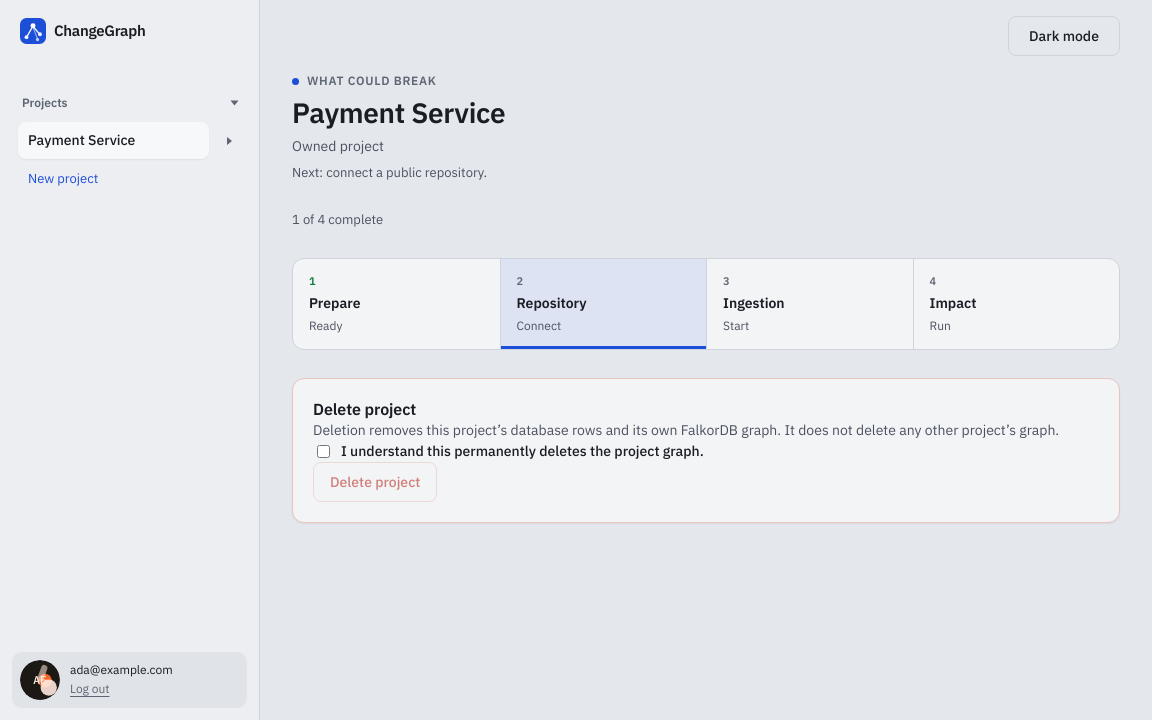
Test: project workflow › keeps project sections in the sidebar and edit on its own page
The width and height of the screenshot is (1152, 720).
Expected: the heading "Payment Service" is shown, top-left (292, 94), bottom-right (505, 131)
Expected: the button "Delete project" is shown, top-left (313, 462), bottom-right (437, 502)
Click the button named "Show Payment Service sections". click: (229, 140)
box: top-left (211, 122), bottom-right (247, 158)
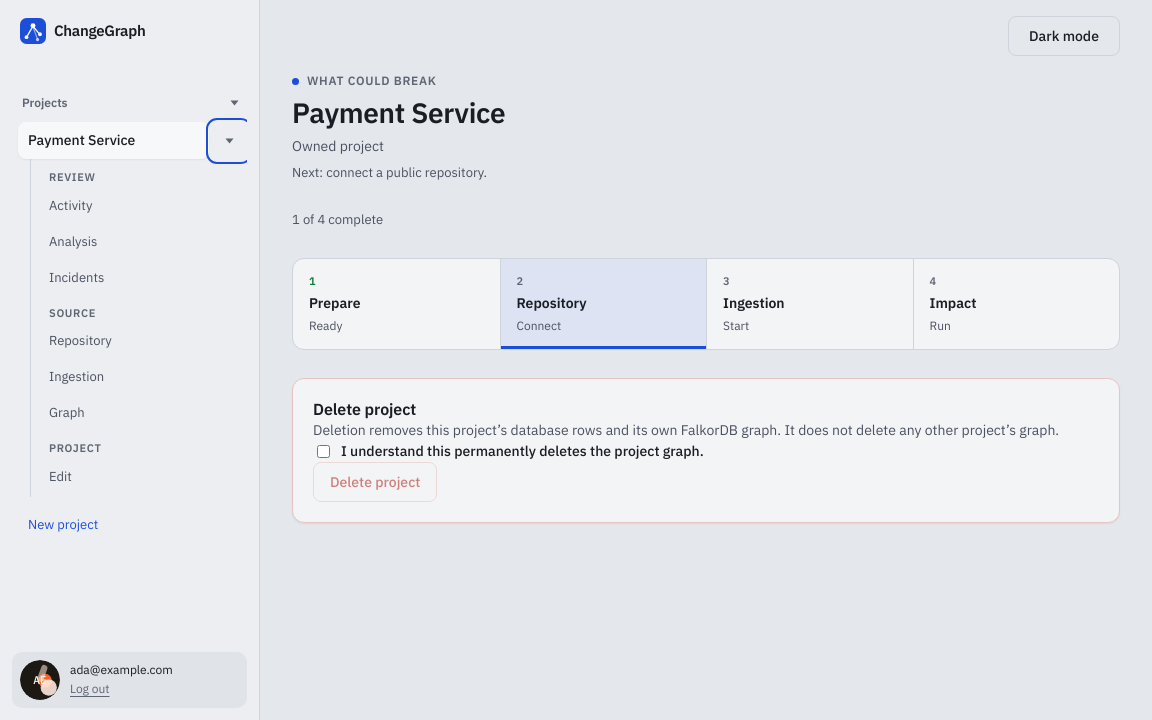
Expected: the navigation bar "Project" shows "Graph", top-left (39, 395), bottom-right (247, 431)
Expected: the navigation bar "Project" shows "Ingestion", top-left (39, 359), bottom-right (247, 395)
Expected: the navigation bar "Project" shows "Analysis", top-left (39, 224), bottom-right (247, 260)
Click the link "Edit". click: (60, 476)
box: top-left (49, 468), bottom-right (72, 484)
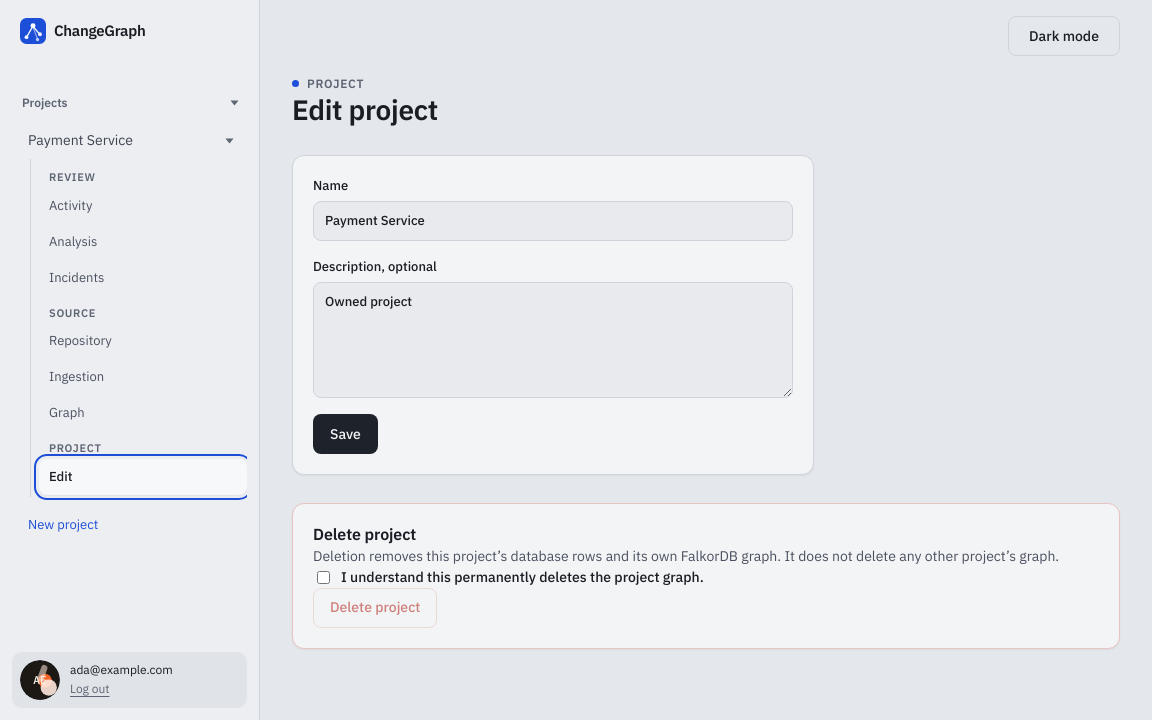
Expected: the heading "Edit project" is shown, top-left (292, 91), bottom-right (438, 128)
Expected: the button "Save" is shown, top-left (313, 414), bottom-right (378, 454)
